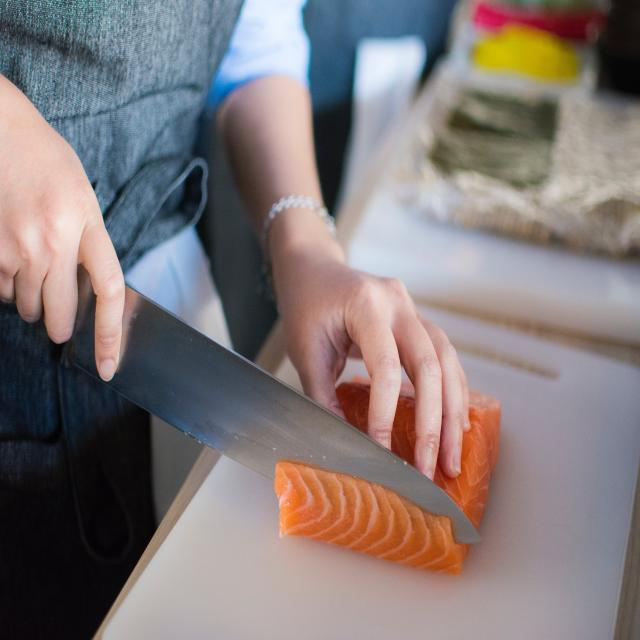Knife: (104, 288, 483, 545), (66, 289, 99, 384)
